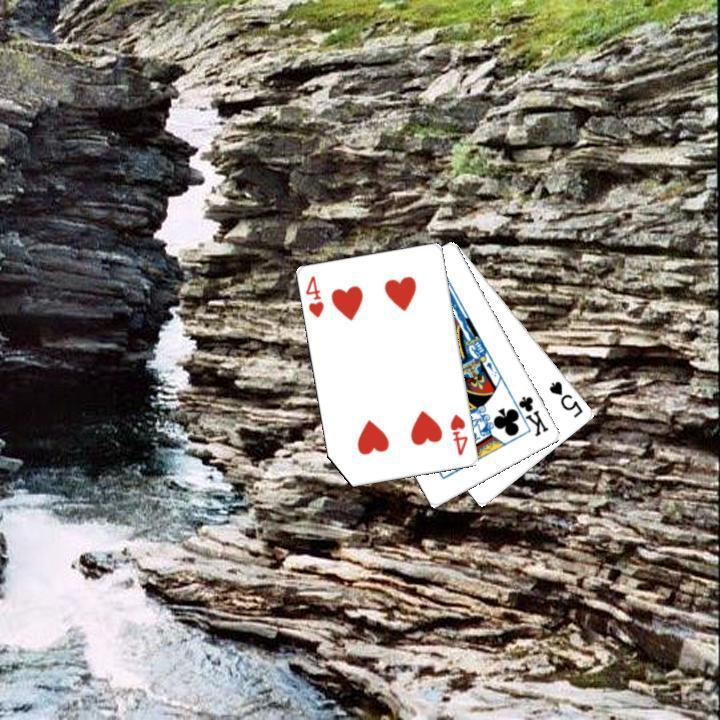4: (301, 272, 326, 320), (446, 410, 470, 457)
5: (545, 376, 585, 420)
K: (507, 392, 551, 439)
